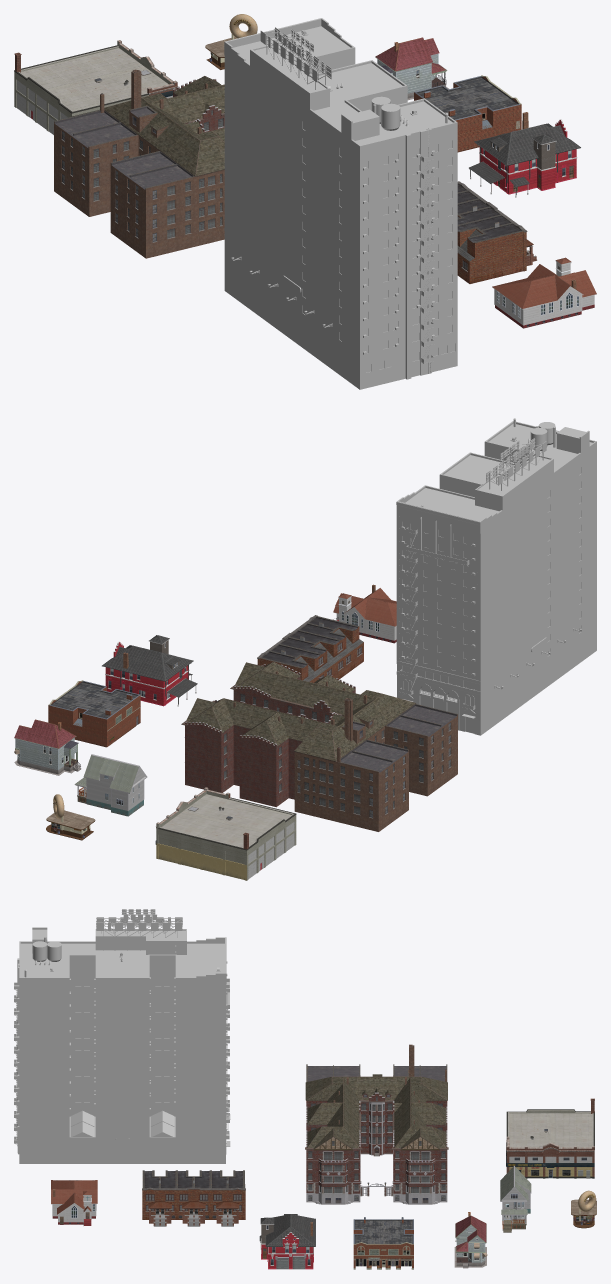
File: low_poly_houses.fbx
3 views of the same model, one above another, from view 1: azimuth 30°, elevation 25°; view 2: azimuth 150°, elevation 25°; view 3: azimuth 270°, elevation 25° (orthographic). The views are drawn at different scales.
Visible parts, largest first — view 1: house_10_object, house_09_object, house_05_object, house_02_object, house_07_object, house_01_object, house_08_object, house_06_object, house_04_object; view 2: house_10_object, house_09_object, house_05_object, house_07_object, house_08_object, house_02_object, house_03_object, house_06_object, house_01_object, house_04_object; view 3: house_10_object, house_09_object, house_05_object, house_07_object, house_08_object, house_02_object, house_01_object, house_03_object, house_06_object, house_04_object.
Boxes of the visible parts, x1=… form: house_10_object: x1=224, y1=18, x2=457, y2=389; house_09_object: x1=54, y1=69, x2=224, y2=258; house_05_object: x1=14, y1=40, x2=177, y2=134; house_02_object: x1=469, y1=112, x2=580, y2=197; house_07_object: x1=457, y1=181, x2=537, y2=283; house_01_object: x1=492, y1=257, x2=596, y2=328; house_08_object: x1=414, y1=75, x2=521, y2=152; house_06_object: x1=375, y1=37, x2=449, y2=100; house_04_object: x1=205, y1=14, x2=257, y2=69; house_10_object: x1=396, y1=418, x2=596, y2=735; house_09_object: x1=181, y1=661, x2=457, y2=831; house_05_object: x1=155, y1=787, x2=296, y2=880; house_07_object: x1=257, y1=615, x2=363, y2=682; house_08_object: x1=48, y1=680, x2=140, y2=747; house_02_object: x1=102, y1=635, x2=197, y2=706; house_03_object: x1=74, y1=754, x2=147, y2=816; house_06_object: x1=14, y1=719, x2=81, y2=775; house_01_object: x1=333, y1=584, x2=396, y2=643; house_04_object: x1=46, y1=794, x2=95, y2=840; house_10_object: x1=14, y1=909, x2=230, y2=1163; house_09_object: x1=305, y1=1044, x2=448, y2=1204; house_05_object: x1=506, y1=1098, x2=594, y2=1178; house_07_object: x1=142, y1=1170, x2=245, y2=1226; house_08_object: x1=353, y1=1217, x2=413, y2=1269; house_02_object: x1=259, y1=1214, x2=315, y2=1269; house_01_object: x1=51, y1=1180, x2=97, y2=1225; house_03_object: x1=500, y1=1165, x2=531, y2=1232; house_06_object: x1=454, y1=1212, x2=487, y2=1268; house_04_object: x1=571, y1=1190, x2=596, y2=1228.
Bounding box in the file's own units: 9210 × 6232 × 14875.
